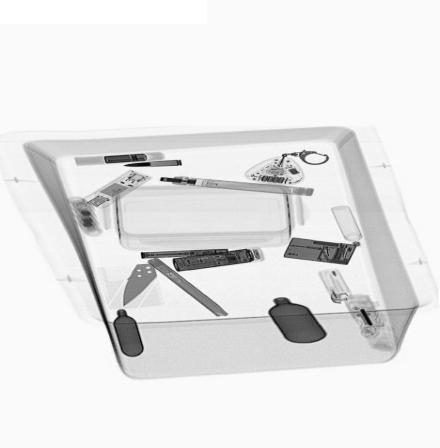Knife: (148, 258, 234, 317), (122, 262, 159, 306)
